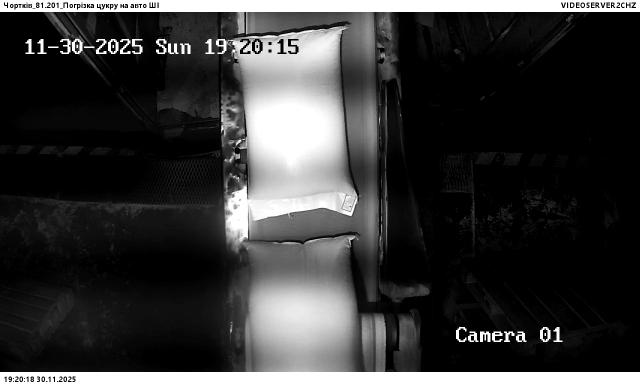bag: (232, 25, 359, 221), (243, 235, 369, 371)
